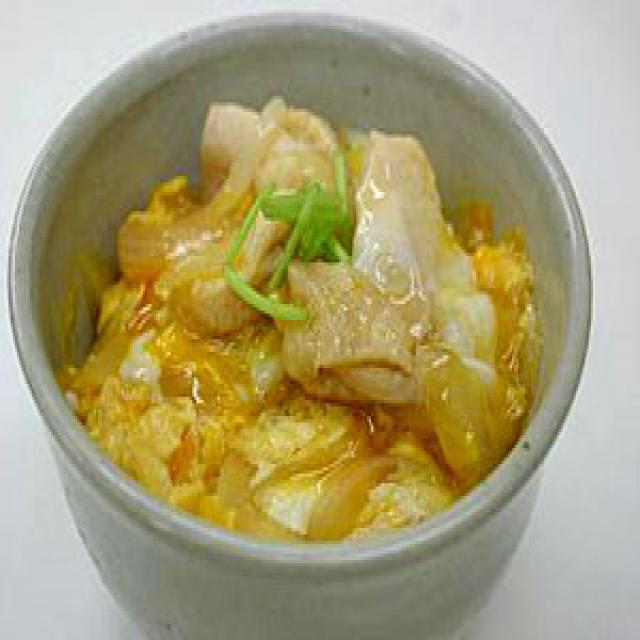米饭主食: (0, 0, 602, 640)
